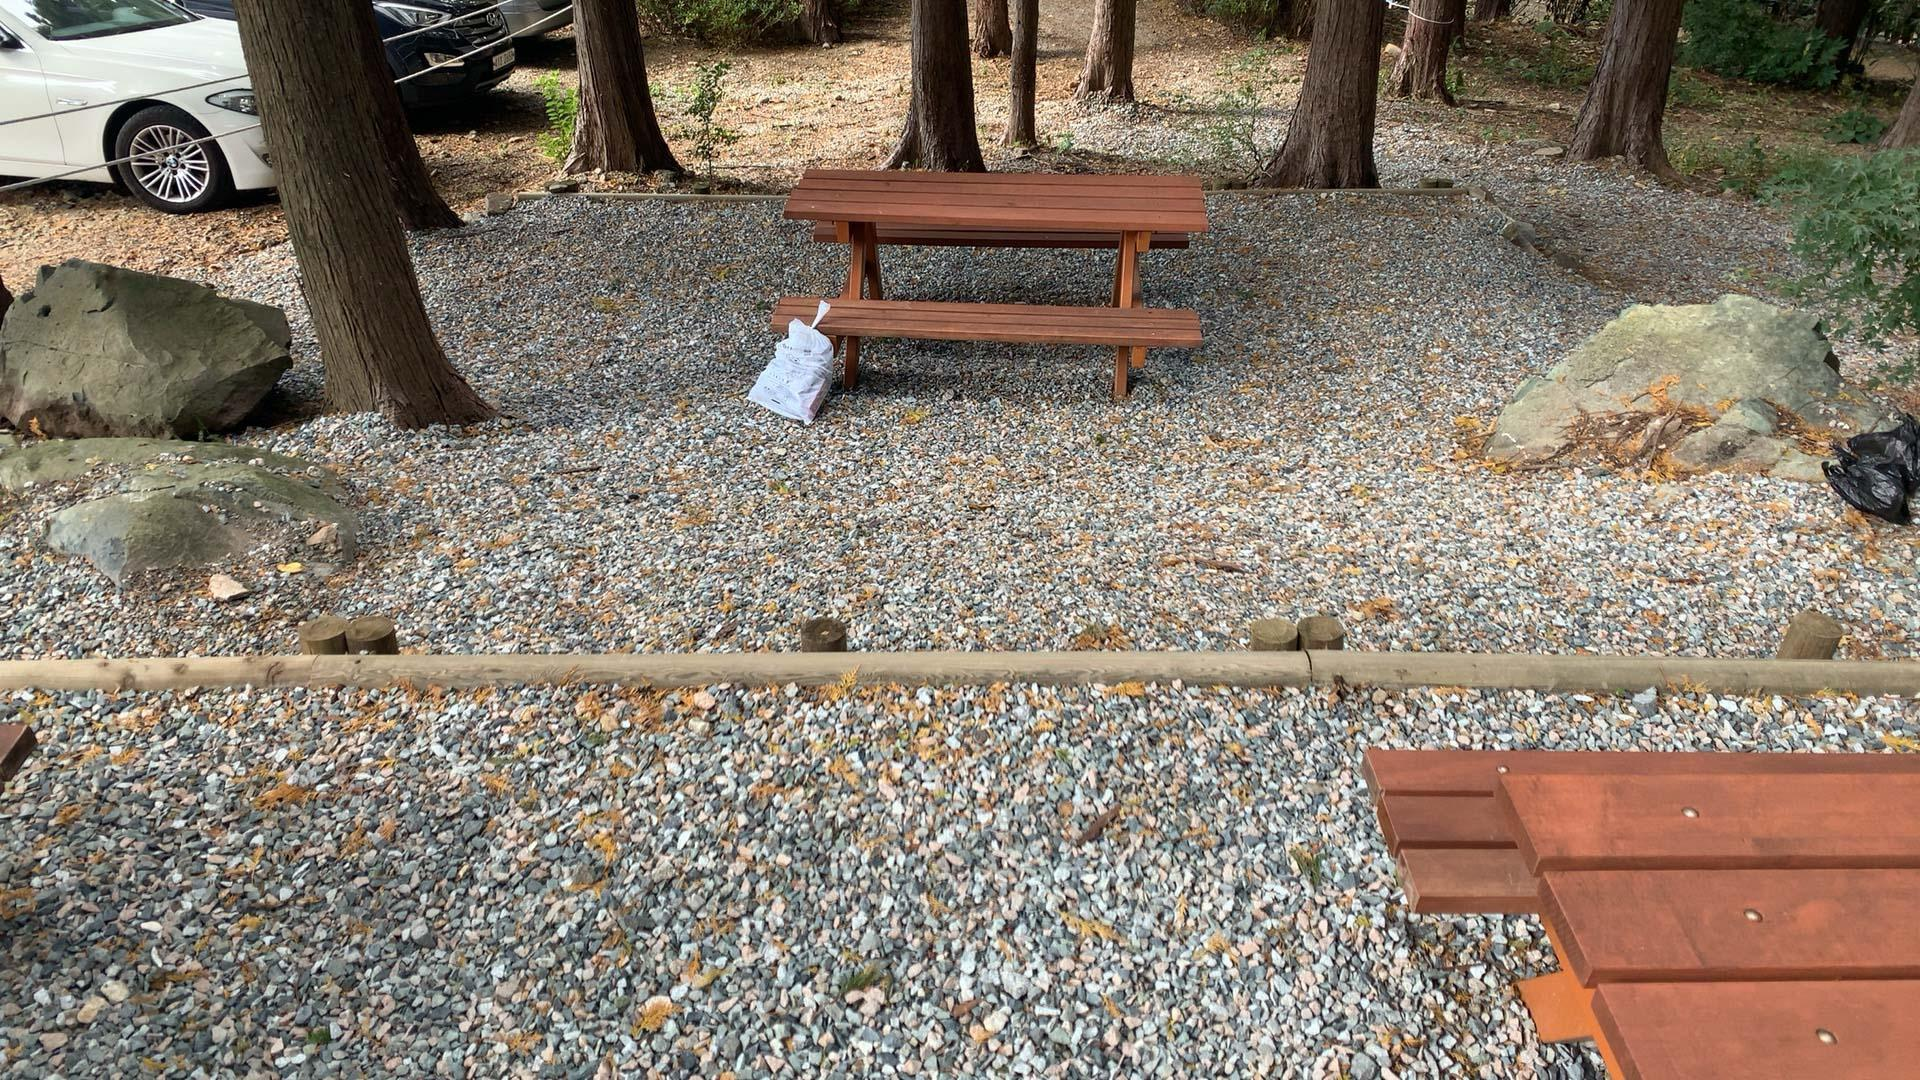black_bag: (1815, 436, 1913, 527)
white_bag: (736, 294, 841, 429)
